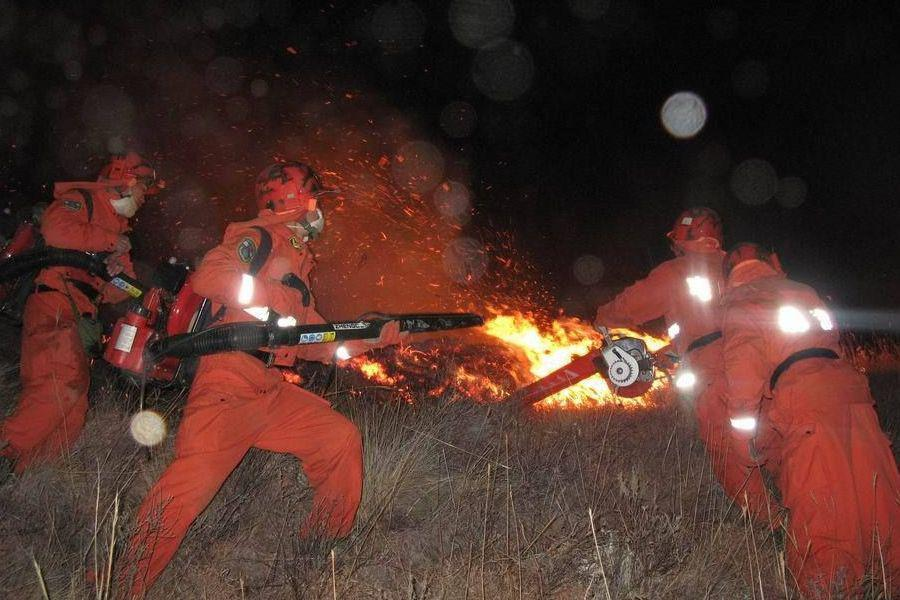fire: (353, 276, 679, 414)
